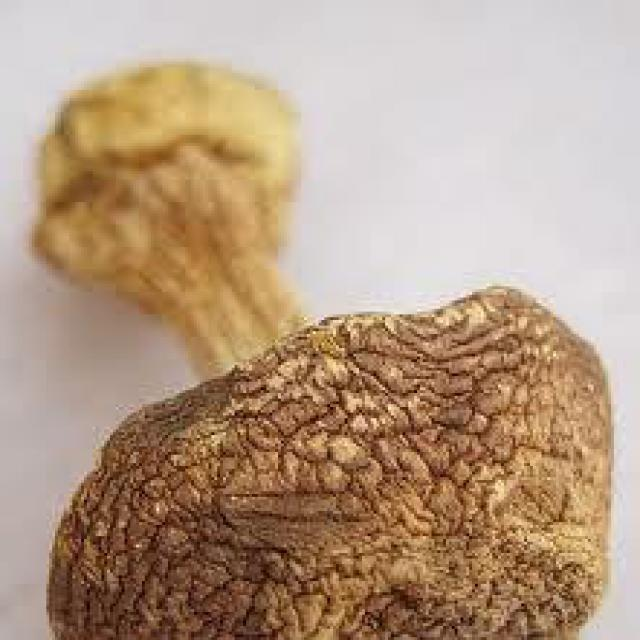Agaricus blazei Murill: (41, 66, 610, 638)
